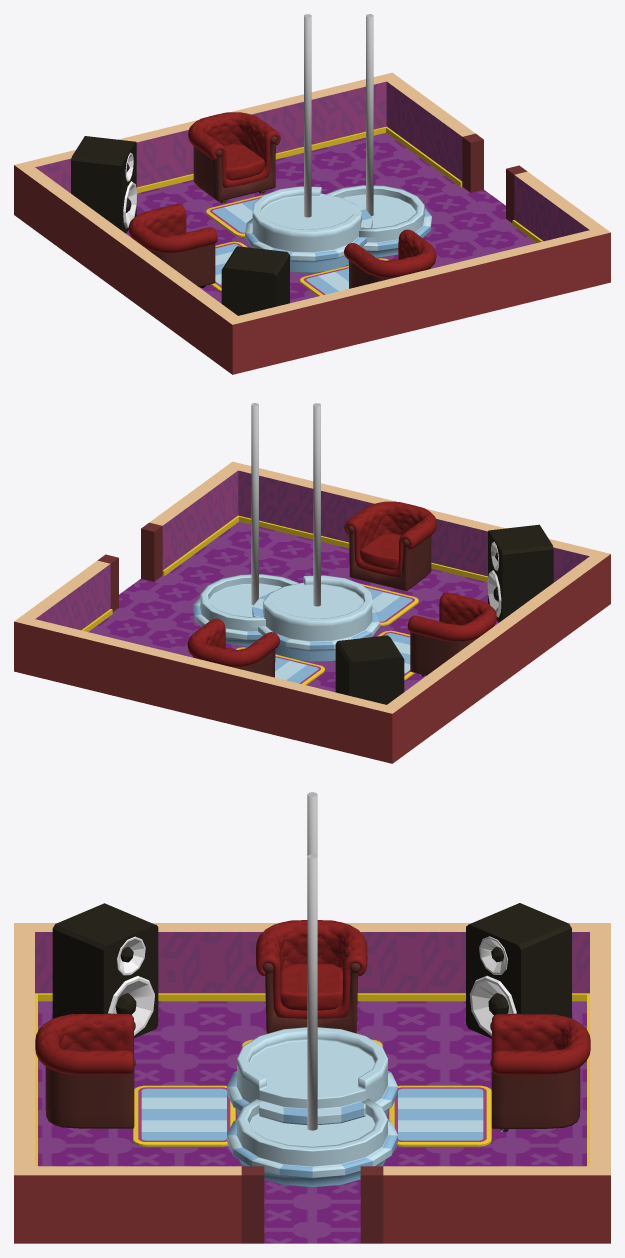
The model's file is VIP_Room_Lvl3_03a 1.fbx.
The picture shows the model from 3 angles, top to bottom: view 1: azimuth 30°, elevation 25°; view 2: azimuth 150°, elevation 25°; view 3: azimuth 270°, elevation 25°; orthographic projection. The views are drawn at different scales.
Visible parts, largest first — view 1: Plane.017, Plane.022; view 2: Plane.017, Plane.022; view 3: Plane.017, Plane.022.
Part boxes in pixels (<box>): Plane.017: <box>14,72,610,374</box>; Plane.022: <box>71,14,436,315</box>; Plane.017: <box>14,461,610,763</box>; Plane.022: <box>187,403,553,704</box>; Plane.017: <box>14,923,610,1243</box>; Plane.022: <box>35,792,590,1187</box>.
Bounding box in the file's own units: 7.92 × 4.68 × 7.92.
4 materials, 3 textured.
